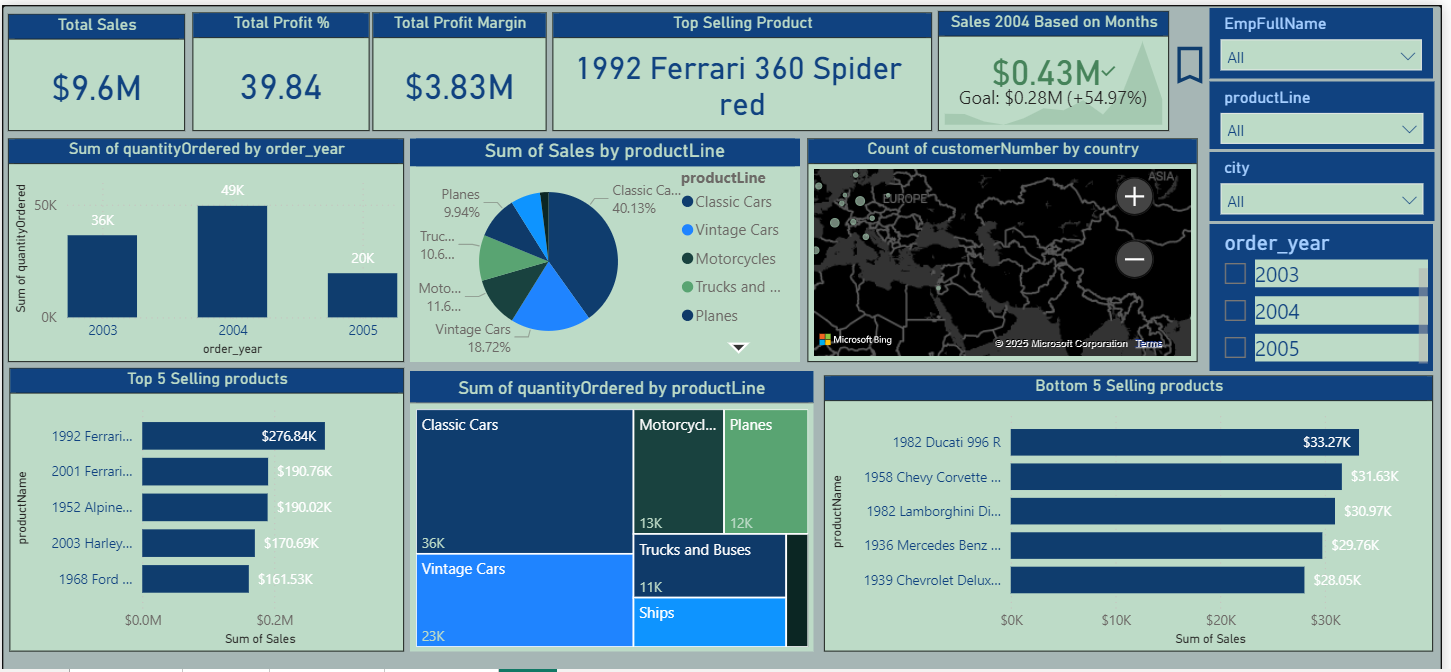

What the dashboard file says about the page in this screenshot:
{"tool":"powerbi","page":{"name":"Page 1","canvas":[1280,720],"ordinal":0},"visuals":[{"type":"card","title":"Total Profit Margin","fields":{"Values":["order details.total_profit"]},"box":[329.3,6.7,154.7,105.3],"z":0},{"type":"card","title":"Top Selling Product","fields":{"Values":["customers.MostOrderedProduct"]},"box":[489.3,6.7,337.3,105.3],"z":1000},{"type":"barChart","title":"Top 5 Selling products","fields":{"Category":["products.productName"],"Y":["order details.Sales"]},"box":[6.7,322.7,350.7,252],"z":2000},{"type":"pieChart","fields":{"Category":["products.productLine"],"Y":["order details.Sales"]},"box":[362.7,118.7,346.7,198.7],"z":3000},{"type":"slicer","title":"Order Year","fields":{"Values":["orders.order_year"]},"box":[1073.3,194.7,198.7,130.7],"z":4000},{"type":"kpi","title":"Sales 2004 Based on Months","fields":{"Goal":["orders.Sales_2003"],"TrendLine":["orders.Month Name"],"Indicator":["orders.Sales_2004"]},"box":[832,5.3,205.3,106.7],"z":5000},{"type":"map","fields":{"Size":["customers.customerNumber"],"Category":["customers.country"]},"box":[716,118.7,346.7,198.7],"z":6000},{"type":"treemap","fields":{"Group":["productlines.productLine"],"Values":["order details.quantityOrdered"]},"box":[362.7,325.3,358.7,249.3],"z":7000},{"type":"card","title":"Total Profit %","fields":{"Values":["Student_grades.Profit_Margin_%"]},"box":[169.3,6.7,157.3,105.3],"z":8000},{"type":"card","title":"Total Sales","fields":{"Values":["order details.Sales"]},"box":[5.3,8,157.3,104],"z":9000},{"type":"slicer","fields":{"Values":["office.city"]},"box":[1073.3,130.7,200,61.3],"z":10000},{"type":"slicer","fields":{"Values":["employees.EmpFullName"]},"box":[1073.3,2.7,198.7,62.7],"z":11000},{"type":"slicer","fields":{"Values":["productlines.productLine"]},"box":[1073.3,68,200,60],"z":12000},{"type":"barChart","title":" Bottom 5 Selling products","fields":{"Category":["products.productName"],"Y":["order details.Sales"]},"box":[730.7,329.3,541.3,245.3],"z":13000},{"type":"actionButton","box":[1034.7,32,54.7,42.7],"z":14000},{"type":"columnChart","fields":{"Y":["order details.quantityOrdered"],"Category":["orders.order_year"]},"box":[5.3,118.7,352,198.7],"z":15000}]}

Visuals, with their boxes on the page's 1280x720 design canvas (x1, y1, x2, y2). These are canvas units, not pixel positions in the 1451x672 screenshot, which may show the page scaled, cropped or inside an application window:
"Total Profit Margin" card: <region>329, 7, 484, 112</region>
"Top Selling Product" card: <region>489, 7, 827, 112</region>
"Top 5 Selling products" barChart: <region>7, 323, 357, 575</region>
pieChart - products.productLine x order details.Sales: <region>363, 119, 709, 317</region>
"Order Year" slicer: <region>1073, 195, 1272, 325</region>
"Sales 2004 Based on Months" kpi: <region>832, 5, 1037, 112</region>
map - customers.customerNumber x customers.country: <region>716, 119, 1063, 317</region>
treemap - productlines.productLine x order details.quantityOrdered: <region>363, 325, 721, 575</region>
"Total Profit %" card: <region>169, 7, 327, 112</region>
"Total Sales" card: <region>5, 8, 163, 112</region>
slicer - office.city: <region>1073, 131, 1273, 192</region>
slicer - employees.EmpFullName: <region>1073, 3, 1272, 65</region>
slicer - productlines.productLine: <region>1073, 68, 1273, 128</region>
" Bottom 5 Selling products" barChart: <region>731, 329, 1272, 575</region>
actionButton: <region>1035, 32, 1089, 75</region>
columnChart - order details.quantityOrdered x orders.order_year: <region>5, 119, 357, 317</region>
